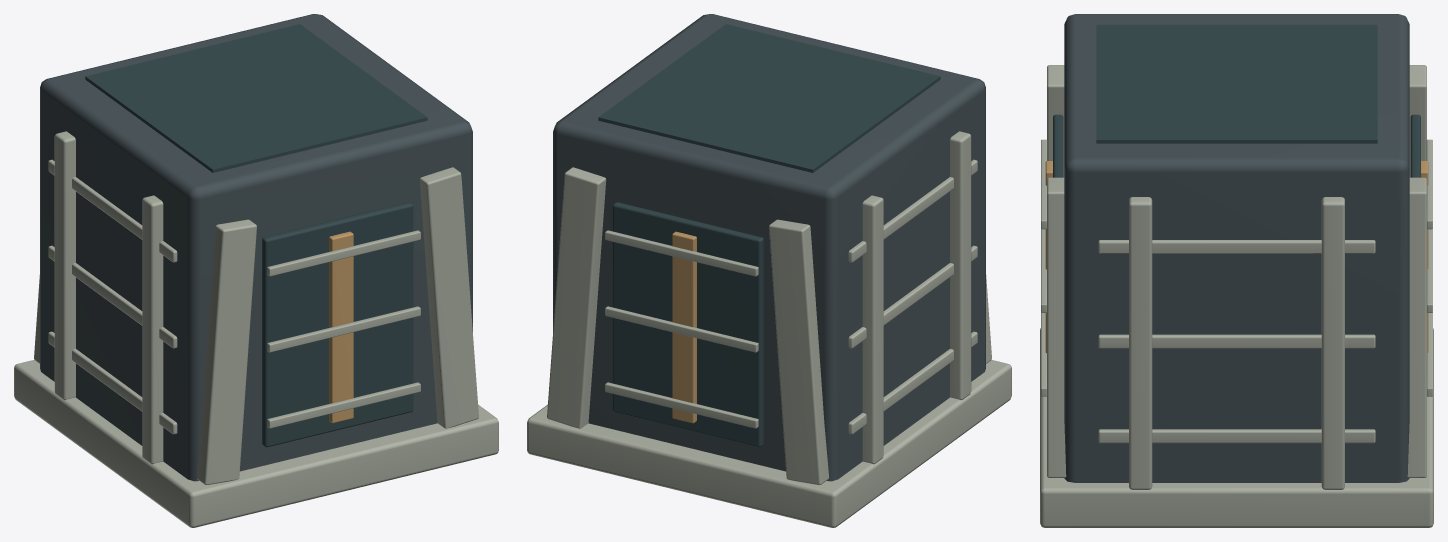
The model's file is gate-base-0.glb.
The picture shows the model from 3 angles, left to right: view 1: azimuth 30°, elevation 25°; view 2: azimuth 150°, elevation 25°; view 3: azimuth 270°, elevation 25°; orthographic projection. The views are drawn at different scales.
Parts seen in each view (by area): view 1: gate_0, gate_1, gate_2, gate_3; view 2: gate_0, gate_1, gate_2, gate_3; view 3: gate_0, gate_1, gate_2, gate_3.
Part boxes in pixels (bbox=[...]): gate_0: bbox=[40, 14, 472, 481]; gate_1: bbox=[14, 131, 498, 527]; gate_2: bbox=[85, 24, 427, 447]; gate_3: bbox=[329, 231, 353, 423]; gate_0: bbox=[553, 14, 985, 481]; gate_1: bbox=[527, 131, 1011, 527]; gate_2: bbox=[598, 24, 940, 447]; gate_3: bbox=[672, 231, 696, 423]; gate_0: bbox=[1064, 14, 1409, 482]; gate_1: bbox=[1040, 65, 1433, 527]; gate_2: bbox=[1053, 24, 1420, 177]; gate_3: bbox=[1045, 161, 1428, 353].
Bounding box in the file's own units: 0.98 × 1 × 0.98.
